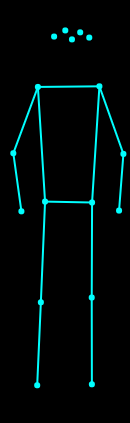mountain: (8, 19, 128, 394)
